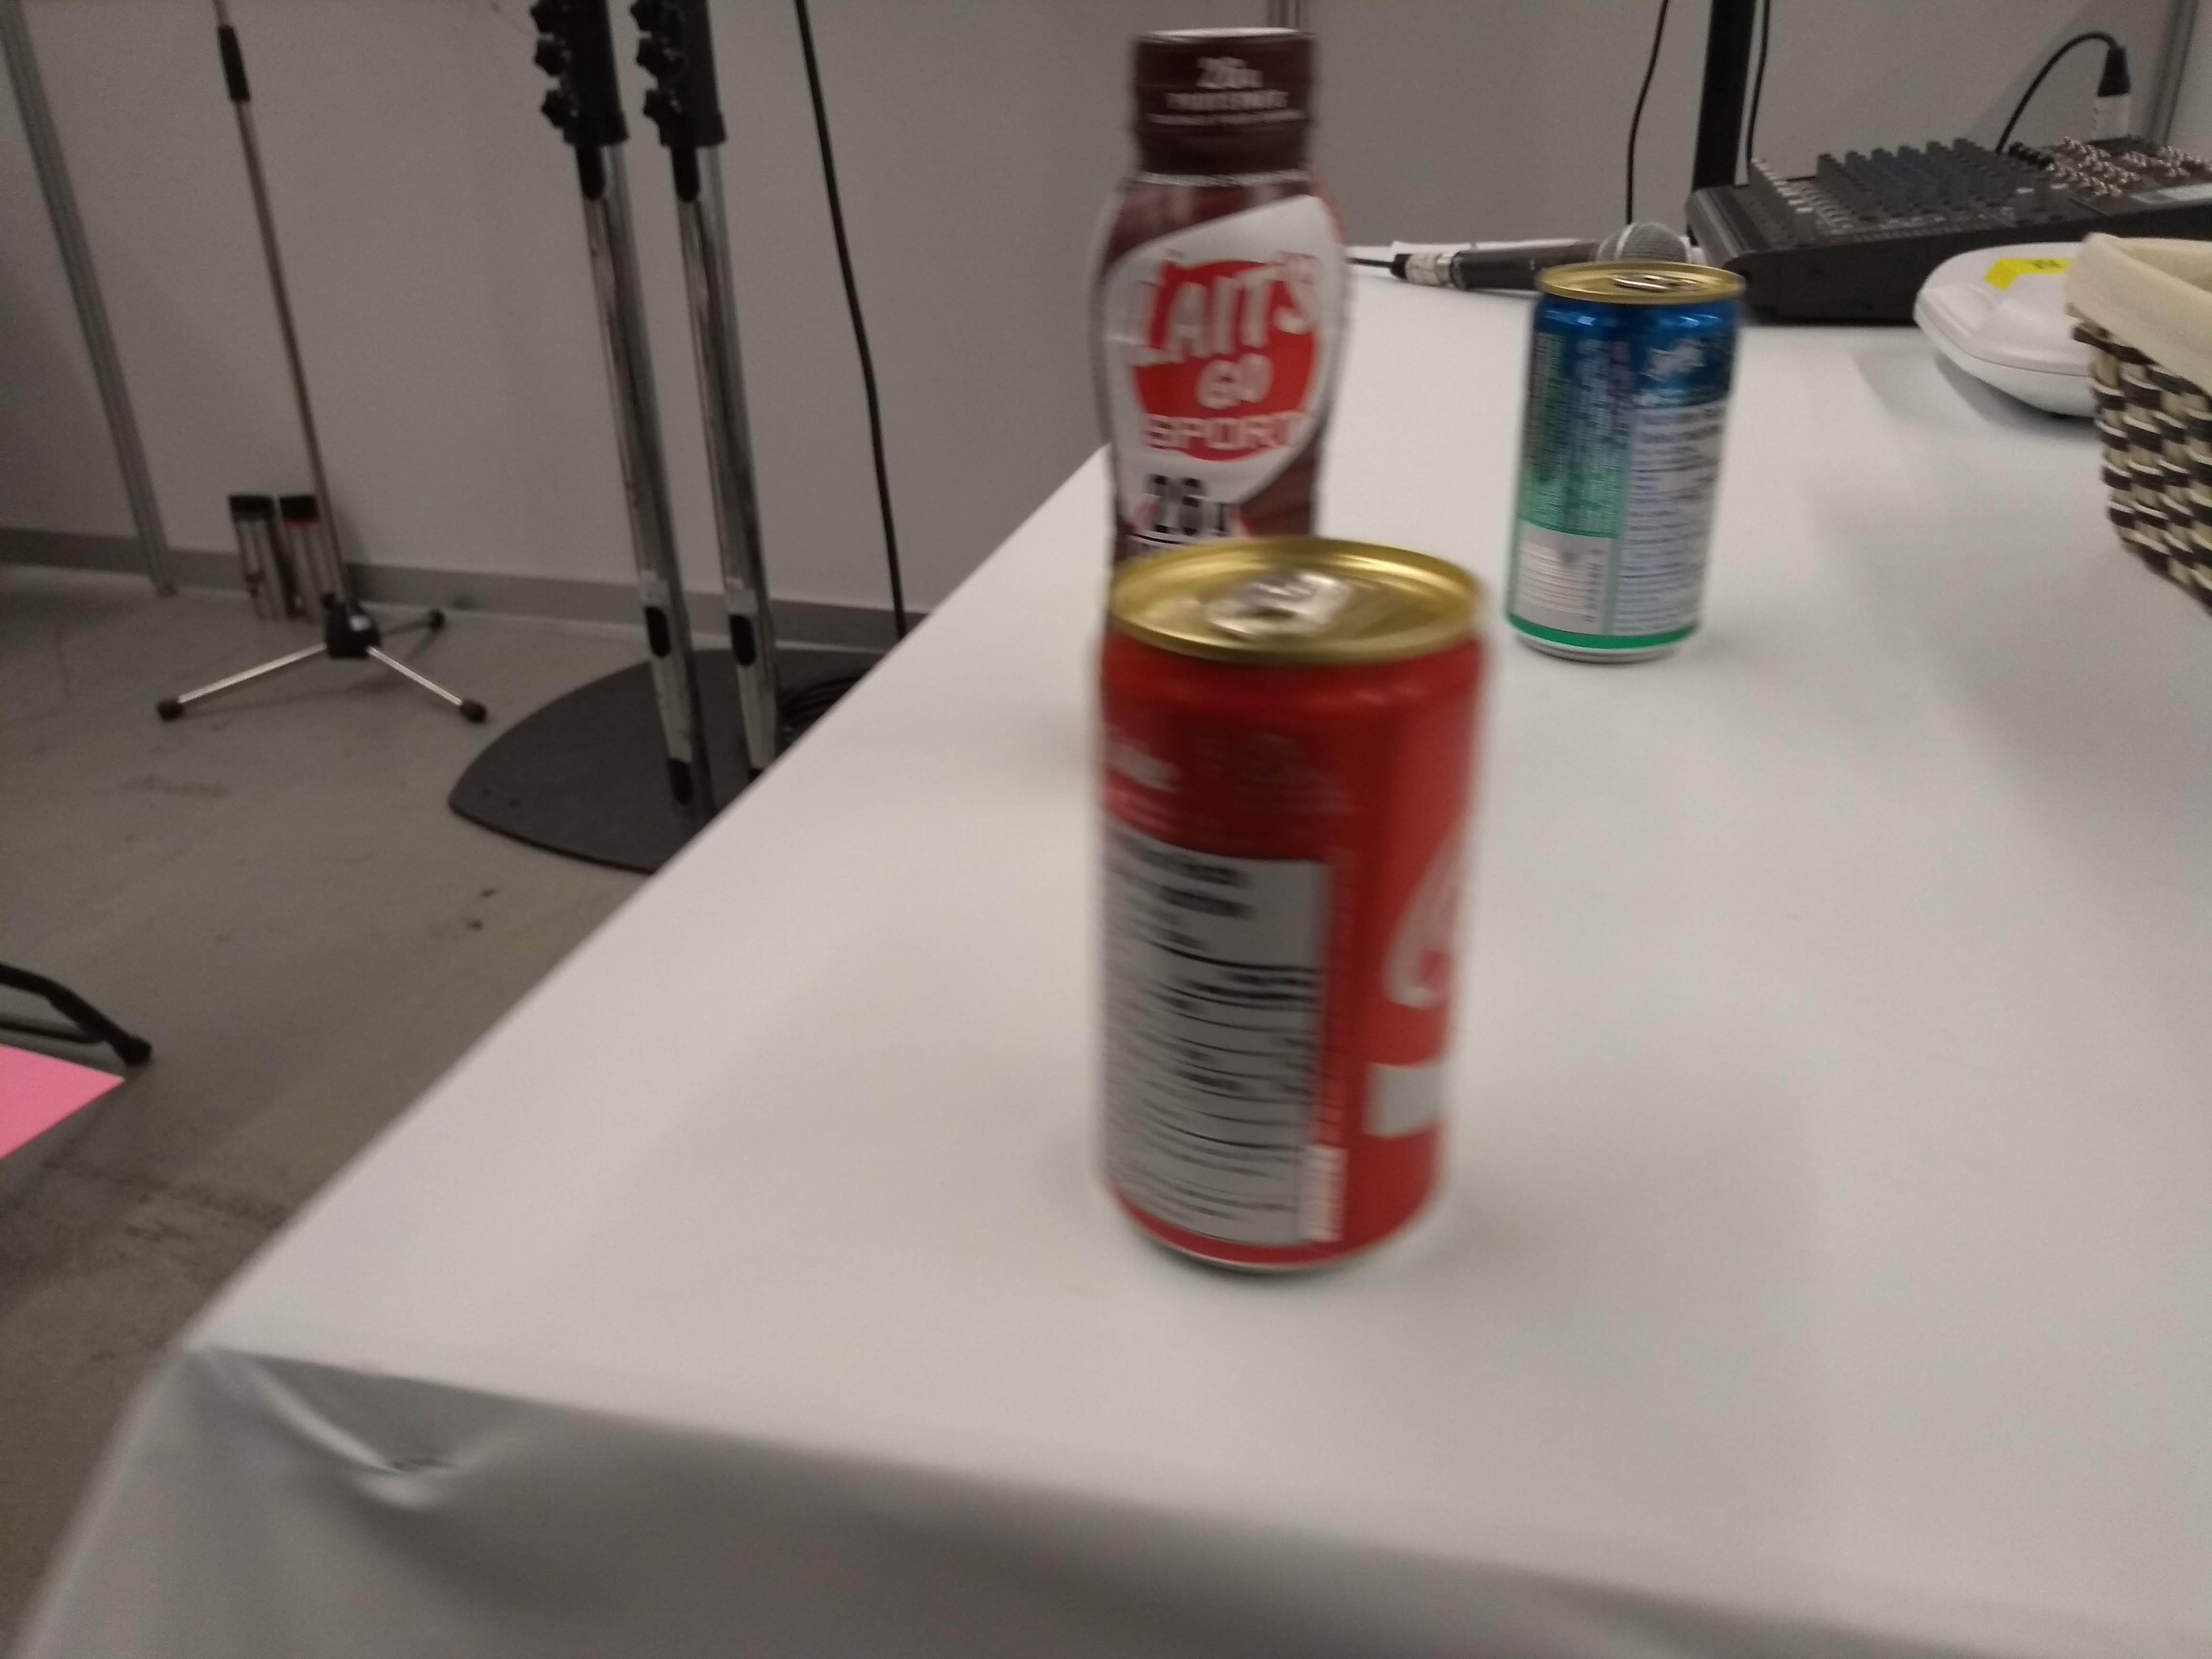chocolate_drink: (1073, 10, 1352, 535)
coke: (1087, 528, 1505, 1291)
sprite: (1500, 237, 1754, 688)
